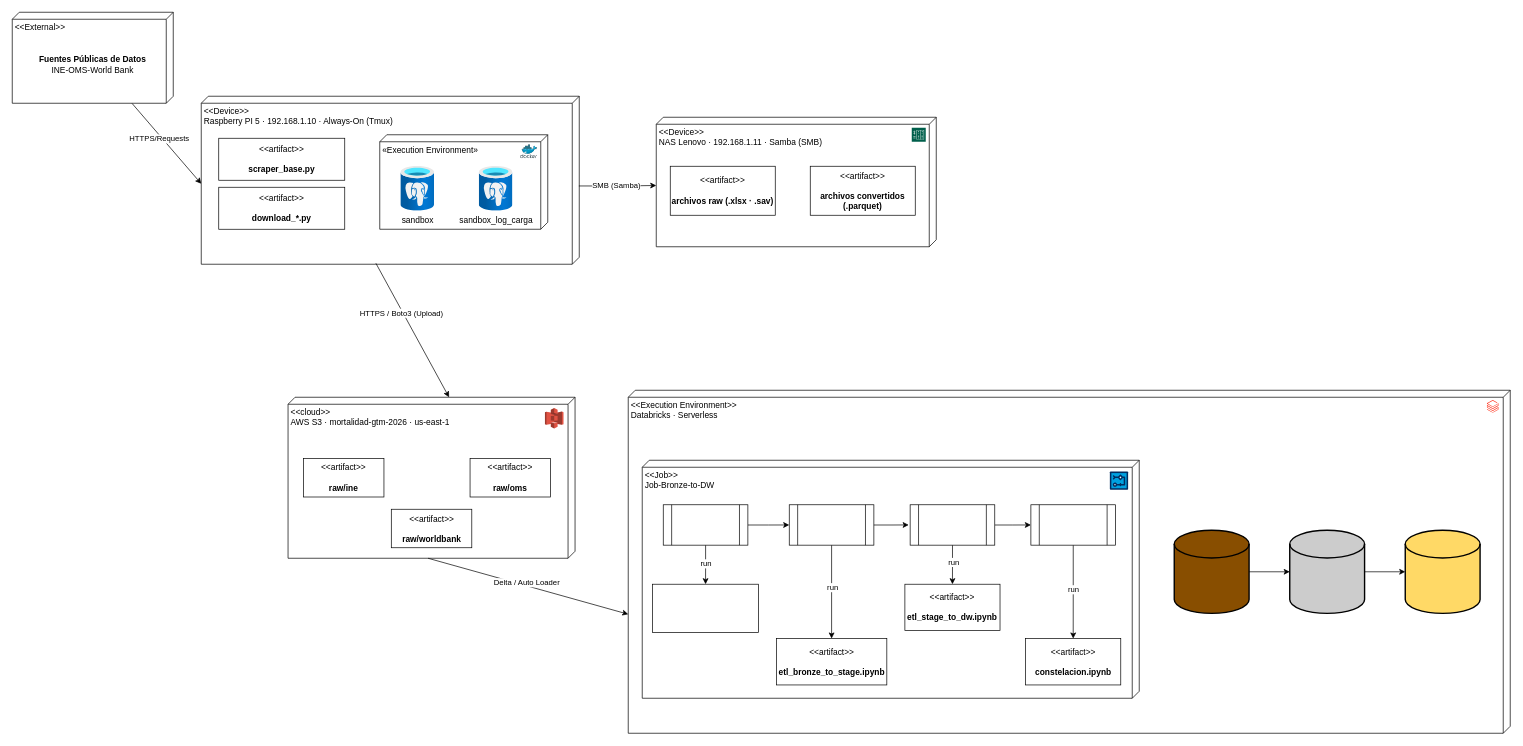
The diagram is 1523 pixels wide and 746 high, and some of its shapes have lost their labels. The shapes that lost their labels are listed below. From the top down, each one's centre as x and y in pixels, then its label:
the point at 705,524: Job-Auditoria
the point at 831,524: Job-ETLBronze-Stage
the point at 952,524: Job-ETLStage-DW
the point at 1073,524: Job-Constelacion
the point at 1211,571: Bronze
the point at 1327,571: Stage
the point at 1442,571: DW
the point at 705,608: <<artifact>> creacion_auditoria.ipynb
